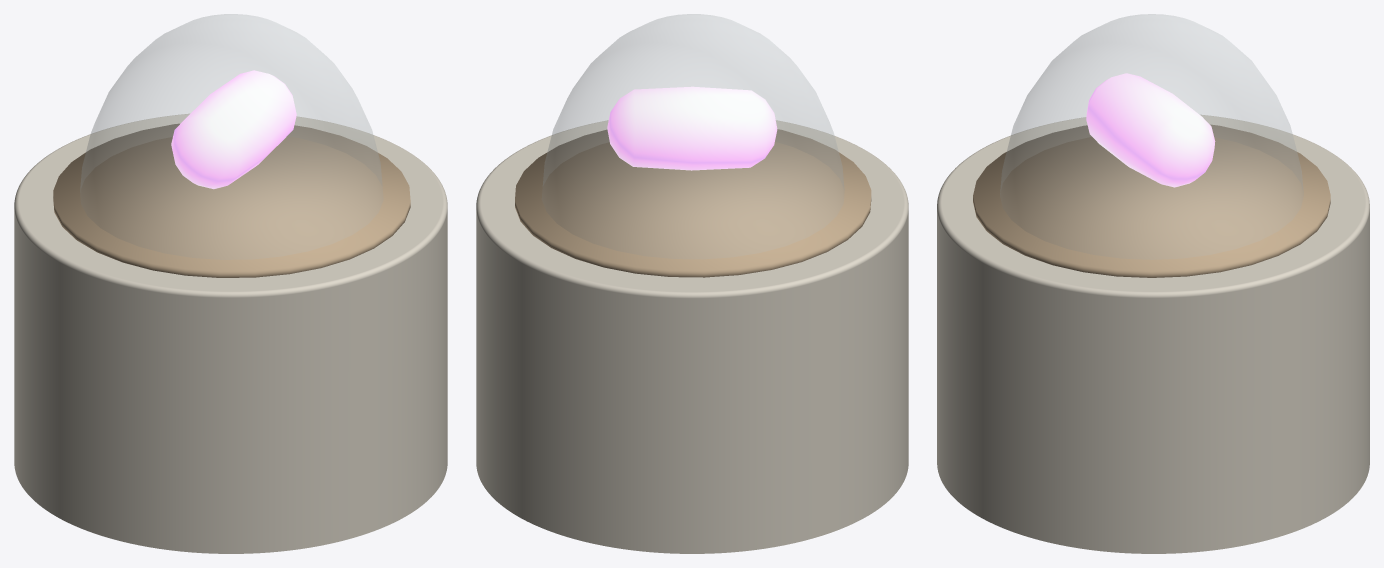
Rendered from bacteria_large_02.glb.
3 views of the same model, side by side, from view 1: azimuth 30°, elevation 25°; view 2: azimuth 150°, elevation 25°; view 3: azimuth 270°, elevation 25° (orthographic).
Parts seen in each view (by area): view 1: PEANA_Alta_A, Exhibit_Mesh0_Dome, Exhibit_Mesh0_Rim, Exhibit_Mesh0_Capsule; view 2: PEANA_Alta_A, Exhibit_Mesh0_Dome, Exhibit_Mesh0_Rim, Exhibit_Mesh0_Capsule; view 3: PEANA_Alta_A, Exhibit_Mesh0_Dome, Exhibit_Mesh0_Rim, Exhibit_Mesh0_Capsule.
Part boxes in pixels (bbox=[...]): PEANA_Alta_A: bbox=[14, 113, 447, 553]; Exhibit_Mesh0_Dome: bbox=[80, 14, 382, 259]; Exhibit_Mesh0_Rim: bbox=[53, 123, 410, 277]; Exhibit_Mesh0_Capsule: bbox=[171, 70, 296, 189]; PEANA_Alta_A: bbox=[476, 120, 908, 553]; Exhibit_Mesh0_Dome: bbox=[542, 14, 844, 258]; Exhibit_Mesh0_Rim: bbox=[515, 129, 871, 277]; Exhibit_Mesh0_Capsule: bbox=[607, 86, 777, 170]; PEANA_Alta_A: bbox=[937, 114, 1369, 553]; Exhibit_Mesh0_Dome: bbox=[1000, 14, 1303, 259]; Exhibit_Mesh0_Rim: bbox=[973, 124, 1330, 277]; Exhibit_Mesh0_Capsule: bbox=[1086, 73, 1215, 187].
Size of the model in its own units: 0.9061 by 1.01 by 0.9061.
